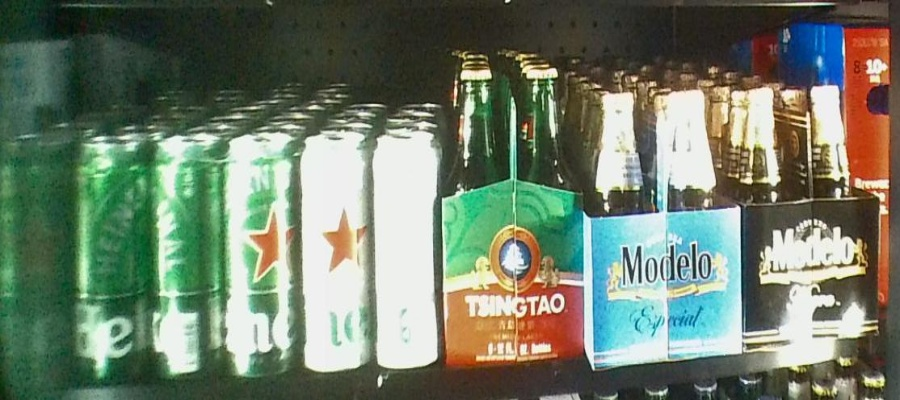bottle: (584, 88, 742, 359), (445, 70, 585, 362), (1, 144, 152, 383), (740, 87, 878, 335), (156, 142, 299, 378), (298, 140, 440, 369)
